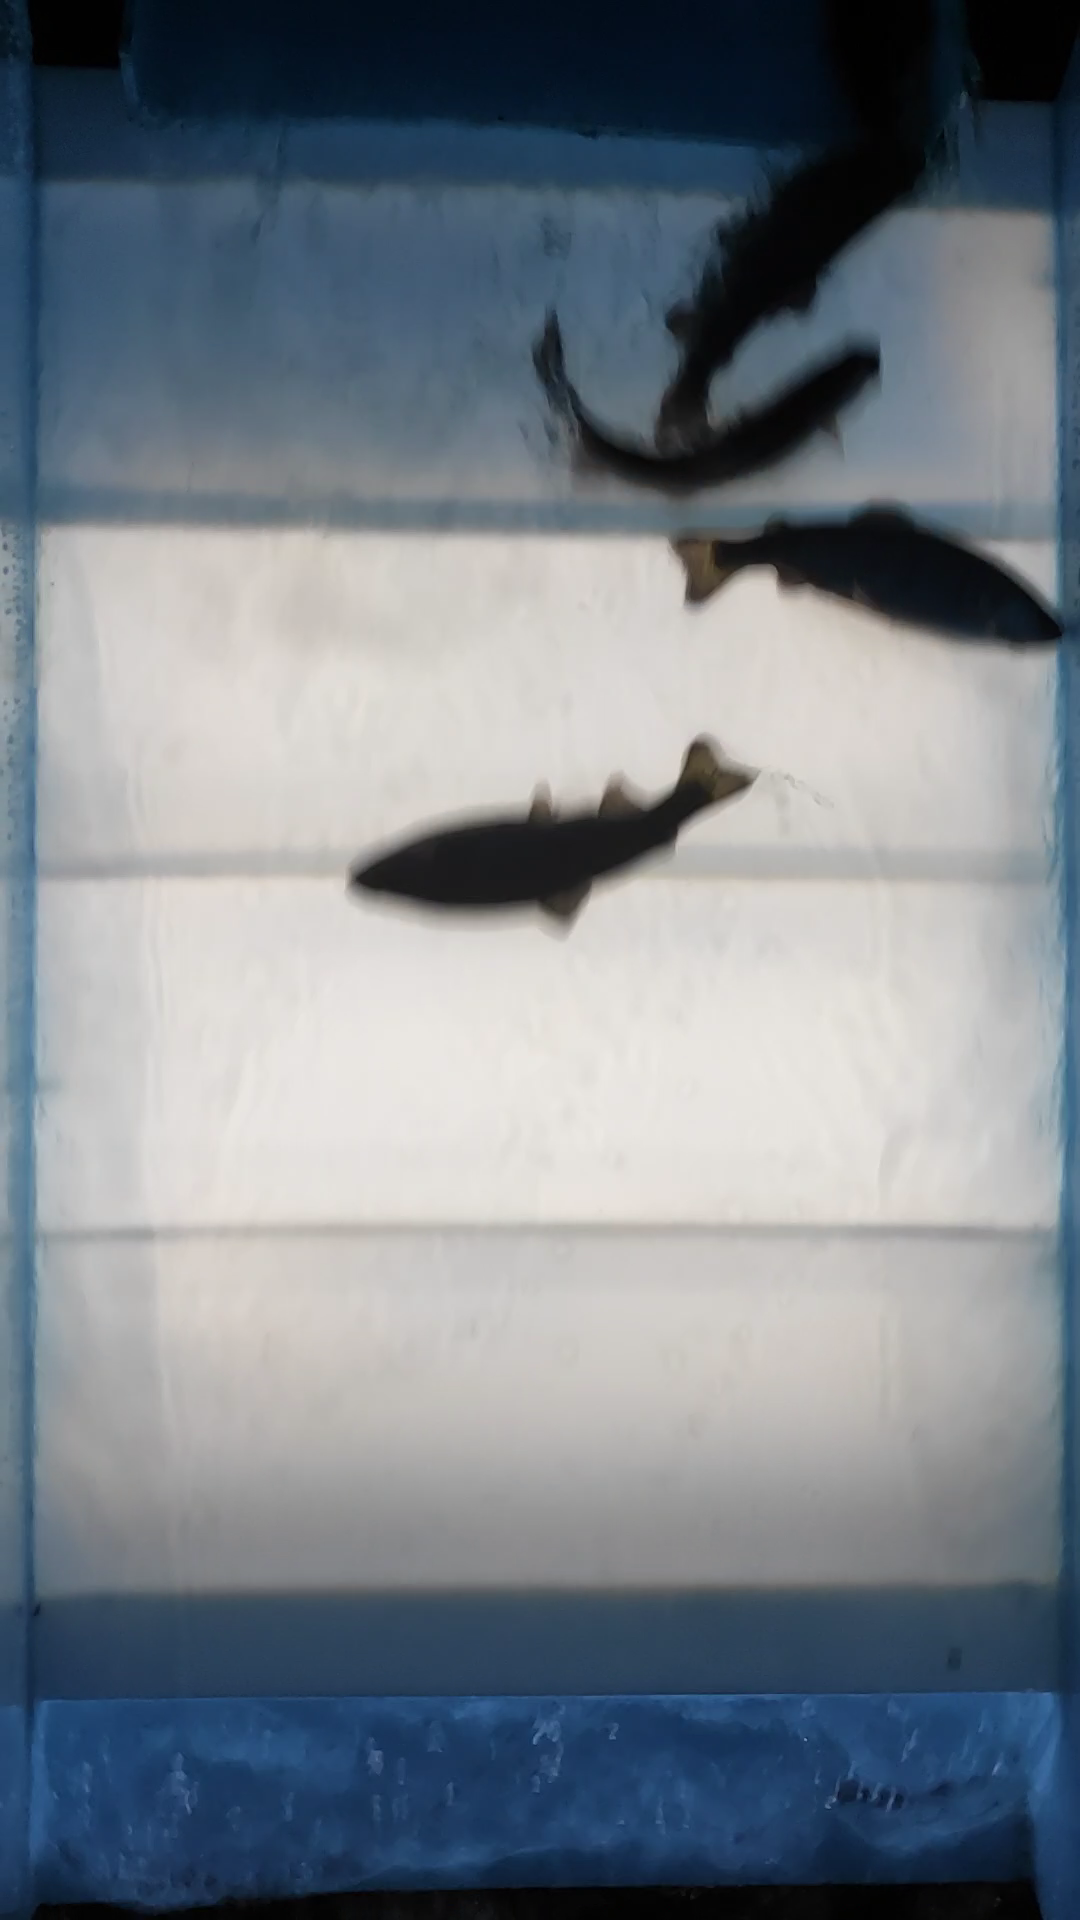fish: (654, 112, 942, 456), (336, 736, 769, 945), (522, 309, 891, 506), (666, 489, 1072, 651)
